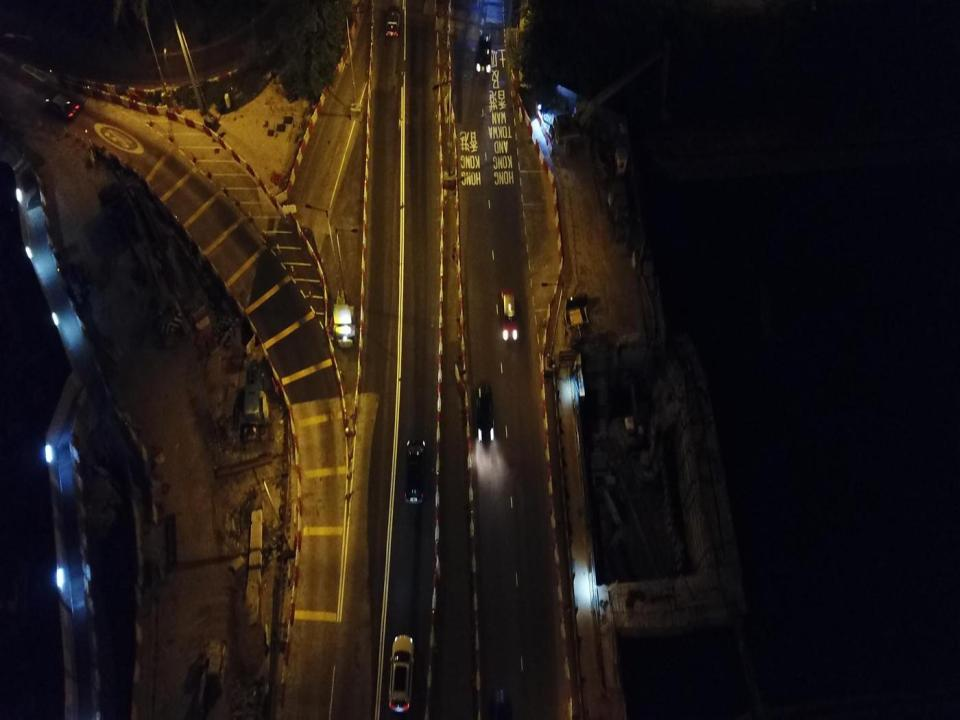car: (389, 634, 414, 713), (404, 439, 425, 504), (475, 381, 494, 442), (45, 92, 79, 122), (500, 287, 518, 340), (476, 33, 492, 73), (386, 5, 400, 39)
